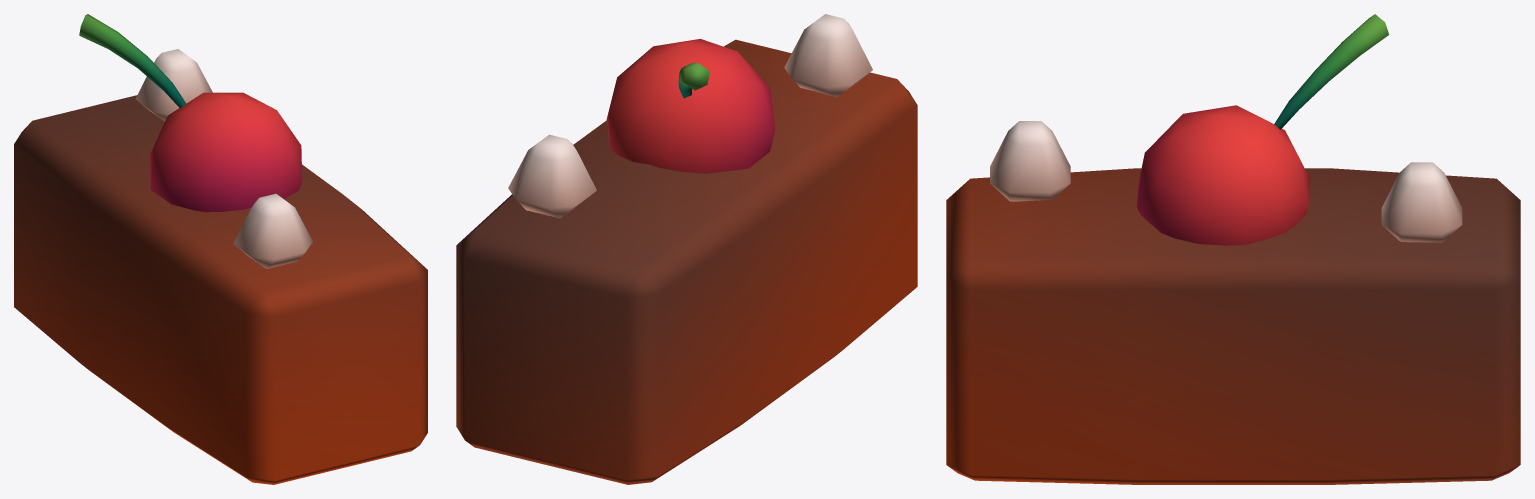
Rendered from pastry_002.glb.
3 renders of one model, left to right at view 1: azimuth 30°, elevation 25°; view 2: azimuth 150°, elevation 25°; view 3: azimuth 270°, elevation 25°, orthographic. The views are drawn at different scales.
Parts seen in each view (by area): view 1: pastry_002; view 2: pastry_002; view 3: pastry_002.
Boxes of the visible parts, box(x1,y1,x2,y2) form: pastry_002: box(14, 14, 427, 484); pastry_002: box(456, 14, 917, 484); pastry_002: box(946, 14, 1520, 484).
Size of the model in its own units: 0.0425 by 0.0691 by 0.0945.
Materials: 1 (1 with a texture image).
